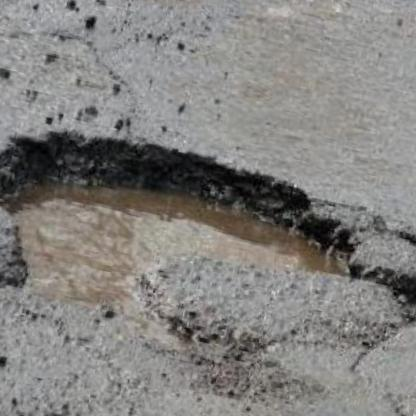pothole: (0, 105, 382, 387), (366, 216, 416, 349)
